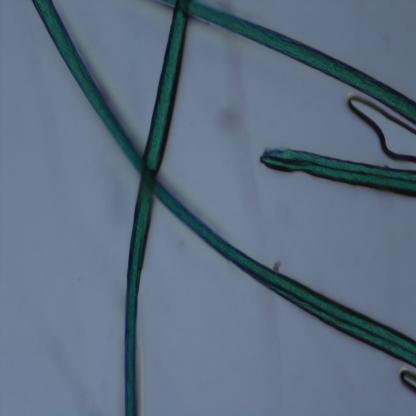Air bubble: (344, 89, 416, 163), (400, 367, 416, 394)
Microfibre: (32, 0, 416, 367), (183, 0, 416, 124), (123, 1, 190, 415), (257, 146, 416, 197)
